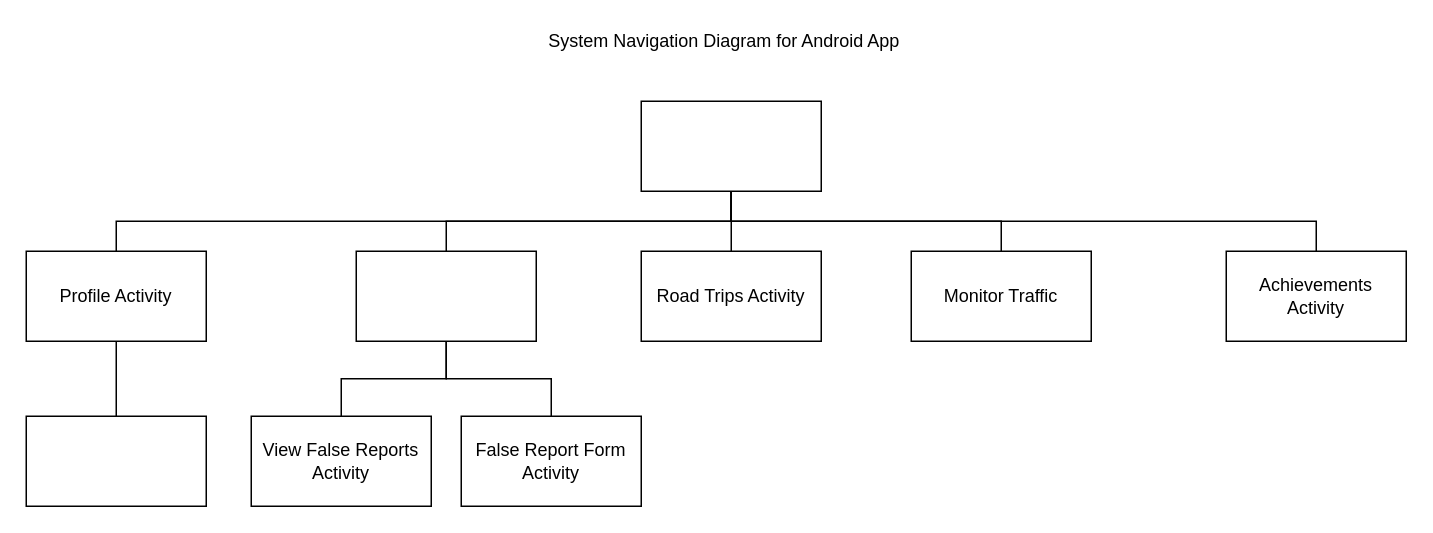
Some shapes in this 1433 by 533 pixel diagram are drawn without their labels. The shapes that lost their labels are listed below. From the top down, each one's box as (x1, y1, x2, y2) in pixels, then its label:
(640, 100, 821, 191): Login/Register
(355, 250, 536, 341): Monitor Incidents
(25, 415, 206, 506): Edit User Profile
